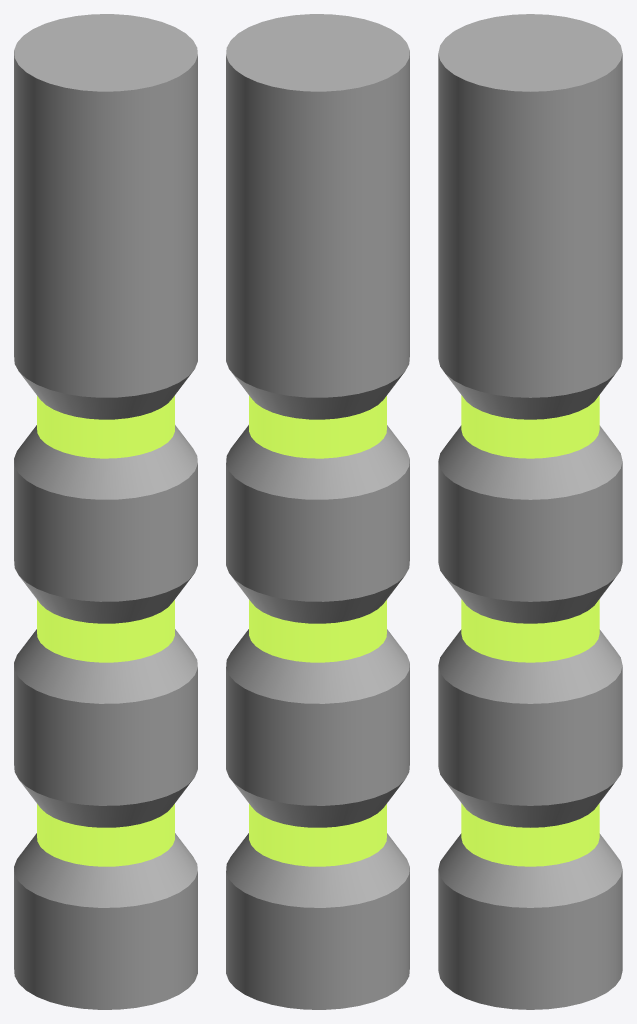
The model's file is TechCylinder.gltf.
3 views of the same model, side by side, from view 1: azimuth 30°, elevation 25°; view 2: azimuth 150°, elevation 25°; view 3: azimuth 270°, elevation 25° (orthographic).
Visible parts, largest first — view 1: TechCylinder-convcol; view 2: TechCylinder-convcol; view 3: TechCylinder-convcol.
Boxes of the visible parts, <box> form: TechCylinder-convcol: <box>14,14,197,1009</box>; TechCylinder-convcol: <box>226,14,409,1009</box>; TechCylinder-convcol: <box>438,14,622,1009</box>.
Bounding box in the file's own units: 3.84 × 21.1 × 3.84.
